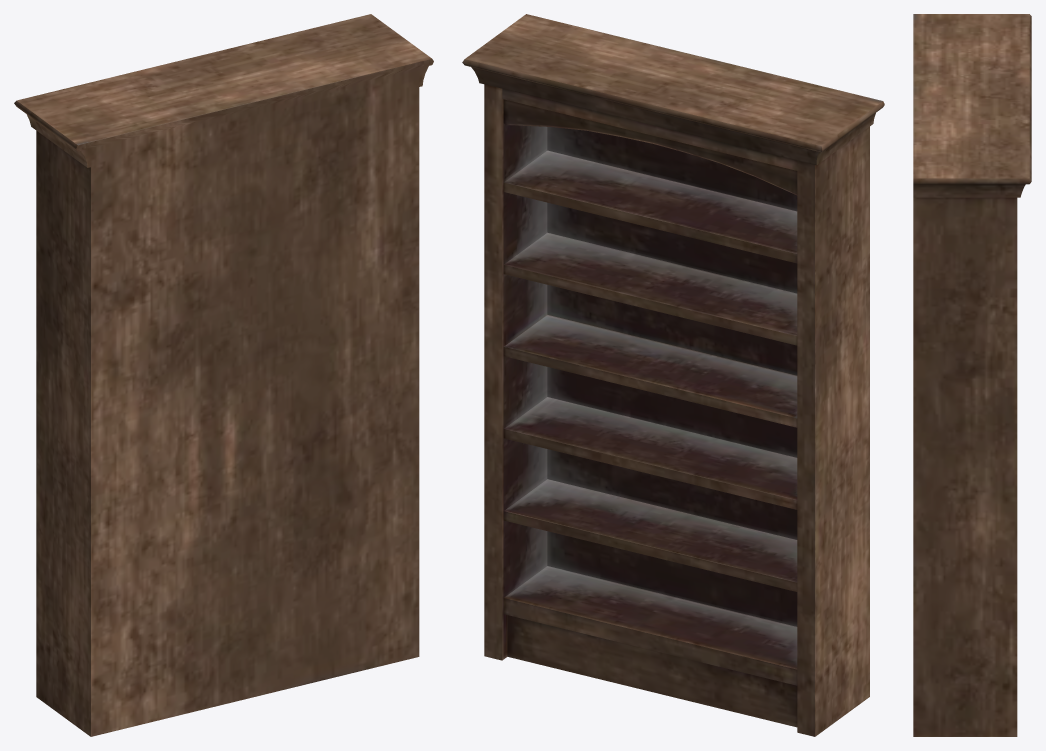
Rendered from book_shelf.glb.
3 renders of one model, left to right at view 1: azimuth 30°, elevation 25°; view 2: azimuth 150°, elevation 25°; view 3: azimuth 270°, elevation 25°, orthographic. The views are drawn at different scales.
Parts seen in each view (by area): view 1: BookShelf_low; view 2: BookShelf_low; view 3: BookShelf_low.
Boxes of the visible parts, <box> form: BookShelf_low: <box>14,14,433,736</box>; BookShelf_low: <box>462,14,884,736</box>; BookShelf_low: <box>913,14,1031,736</box>.
Bounding box in the file's own units: 2.76 × 4.38 × 0.83.
Materials: 1 (1 with a texture image).
